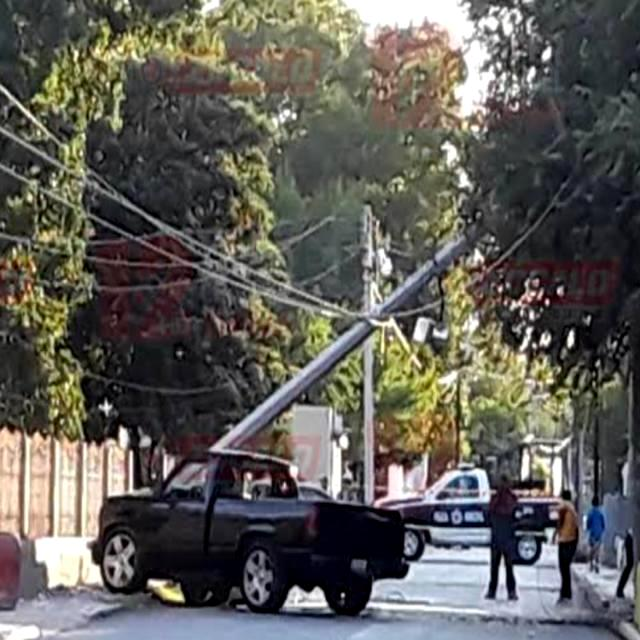Broken Pole: (208, 223, 491, 453)
